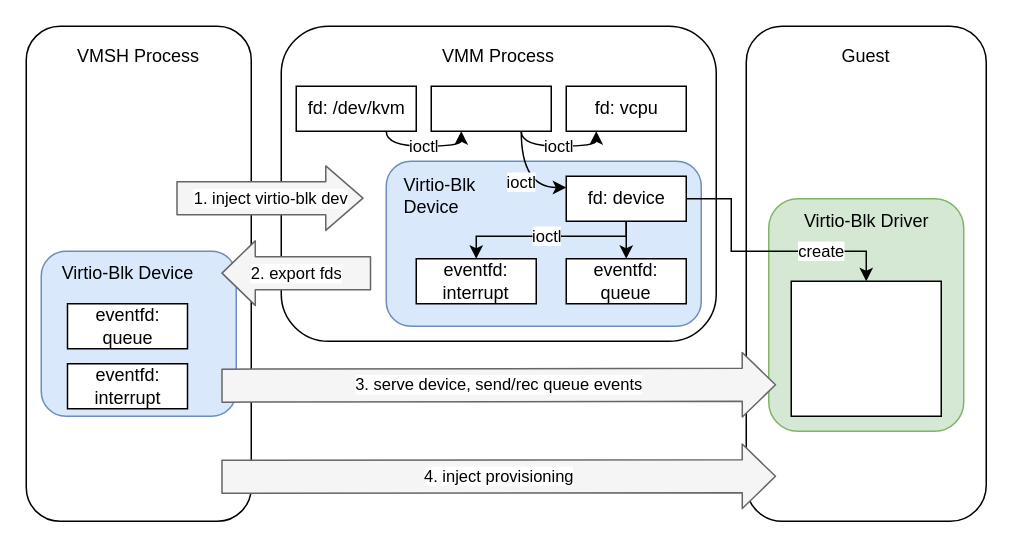
Some shapes in this 1013 by 548 pixel diagram are drawn without their labels. The shapes that lost their labels are listed below. From the top down, each one's box as (x1, y1, x2, y2) in pixels, then its label:
(430, 85, 551, 131): fd: vm
(790, 280, 941, 416): Shared Memory: MMIO Device Virtio Queues
